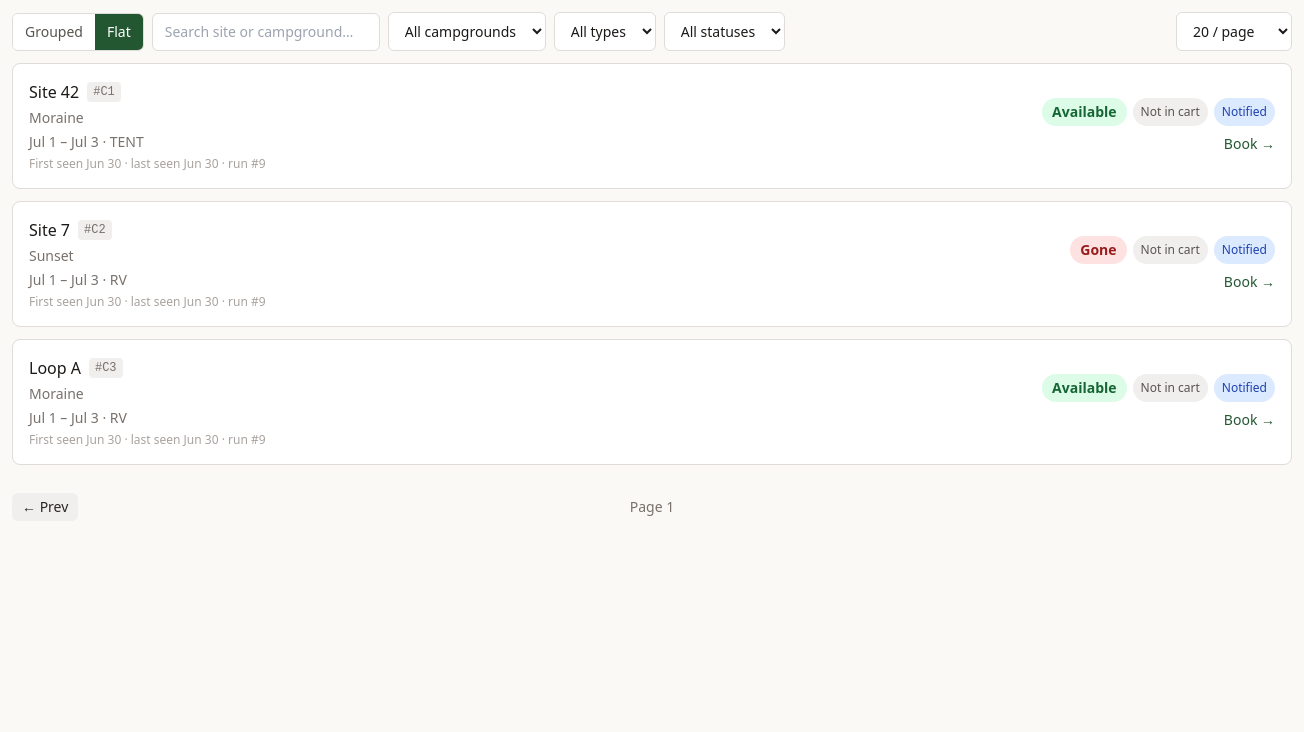
ResultsTab (availability filter) › filters to only available results when 'Available' is selected
Expected: the text "Site 42" is shown, [29,80,79,104]
Select "Available" in the 3rd dropdown named "All statuses": point(724, 32) [664,12,785,51]
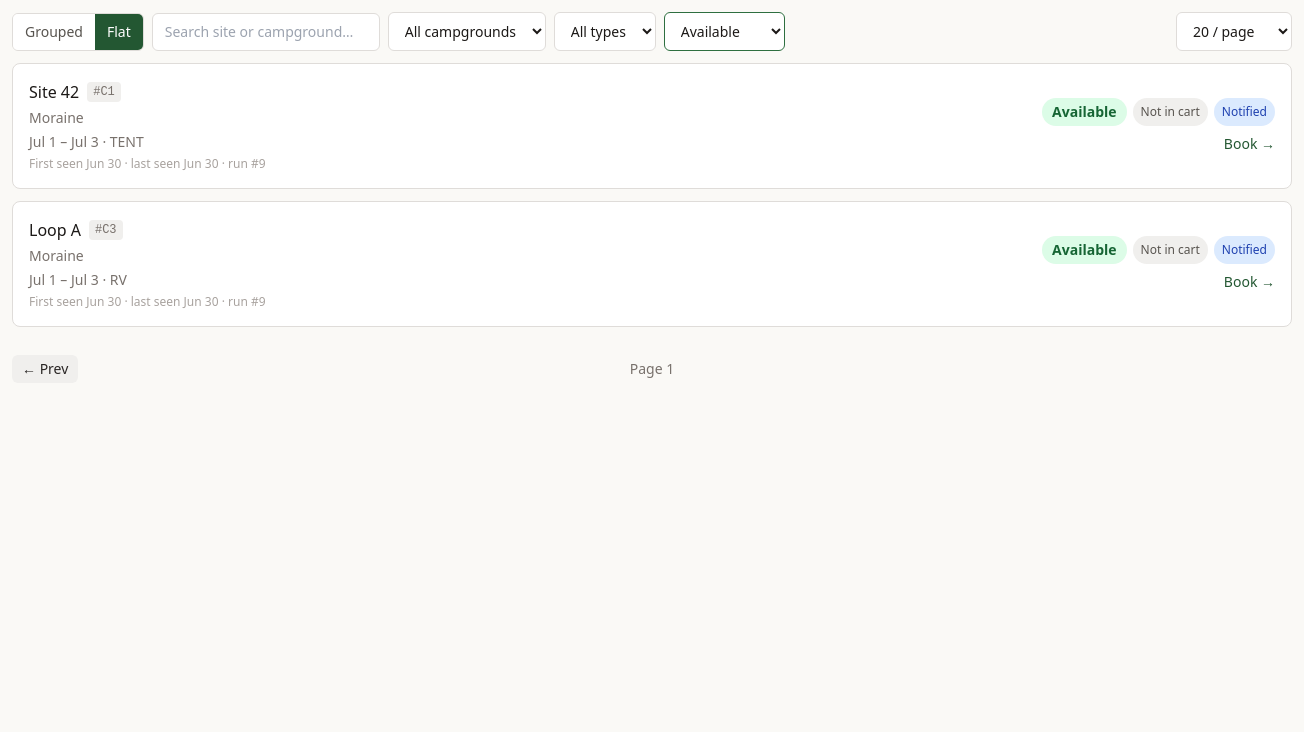
Expected: the text "Site 42" is shown, [29,80,79,104]
Now the text "Site 7" is gone
